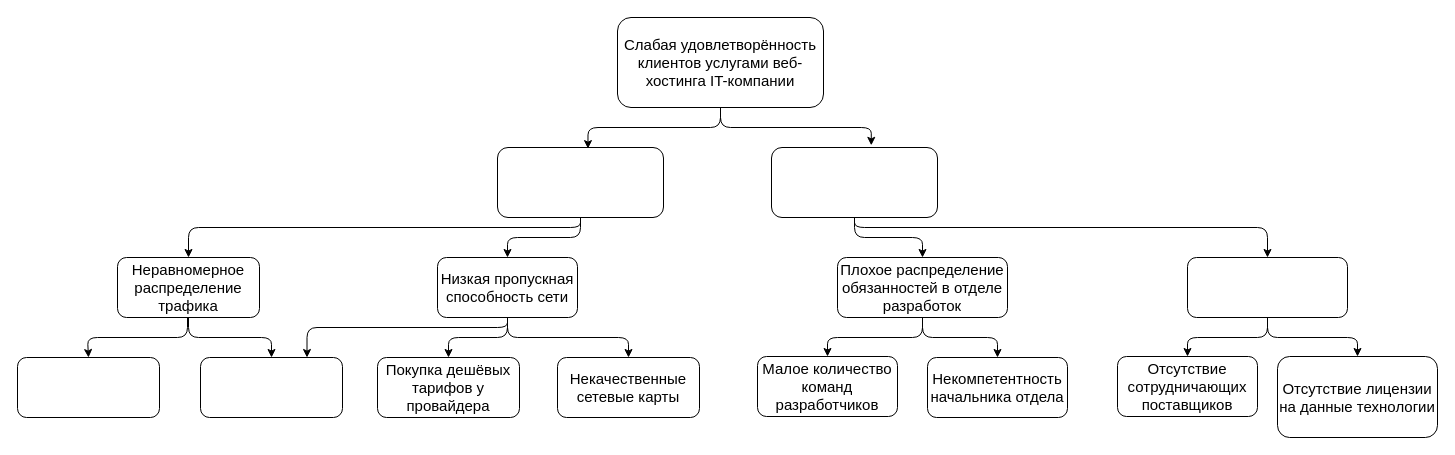
Image size: 1455x455. Some labels were removed from this diagram. Each missing label, with the box of its shape:
Большое количество запросов: (16, 356, 160, 418)
Долгое исправление ошибок: (770, 146, 938, 218)
Отсутствие требуемых технологий: (1186, 256, 1348, 318)
Устаревшее оборудование: (200, 356, 342, 418)
Частые разрывы в соединении с сервером: (496, 146, 664, 218)
